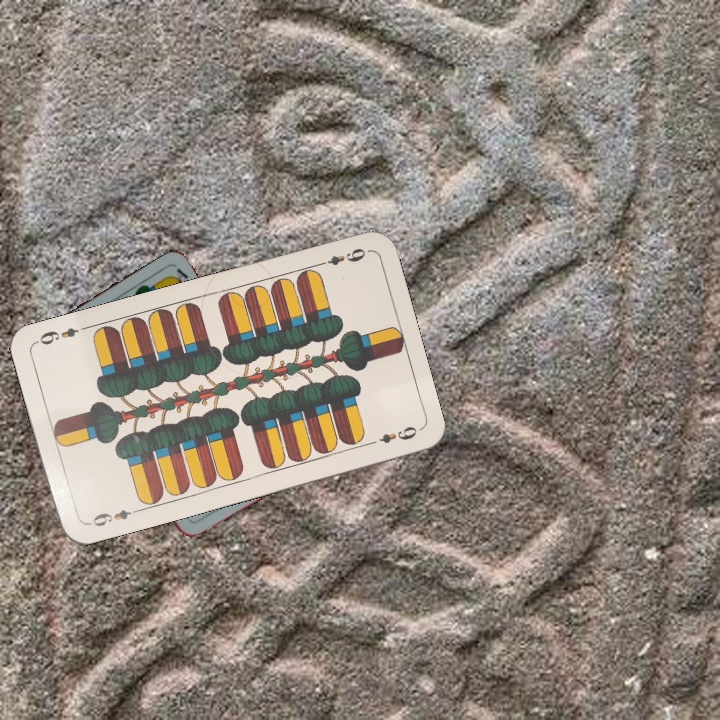E9: (83, 505, 141, 530), (313, 244, 368, 269)
